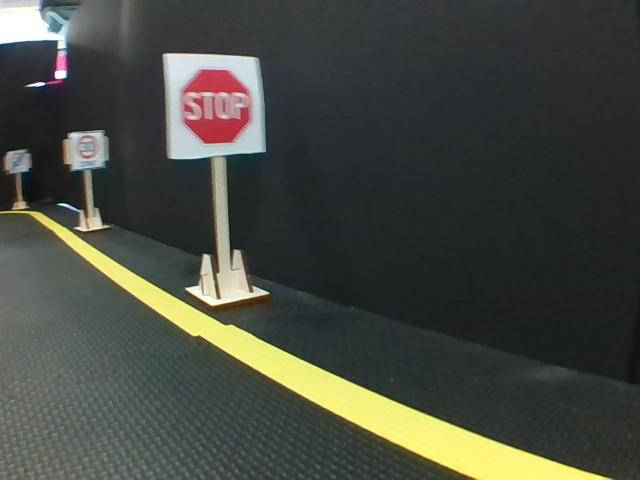30: (70, 132, 103, 168)
no30: (6, 151, 29, 172)
stop: (166, 54, 265, 156)
